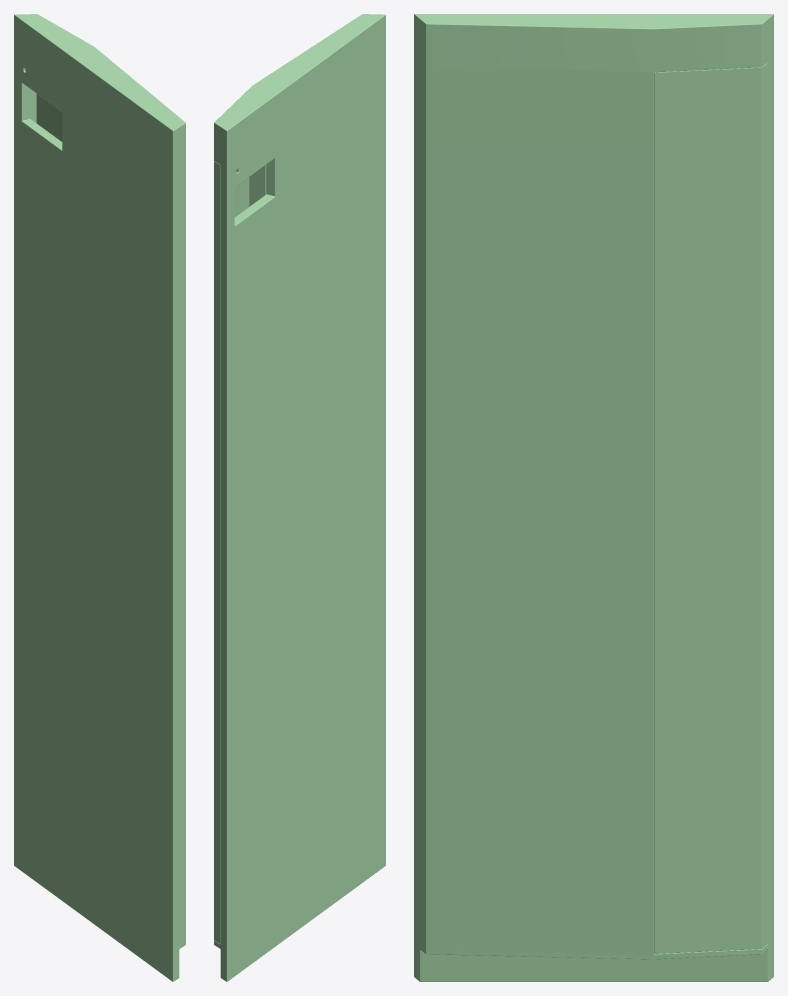
Rendered from FrontHatch.fbx.
The picture shows the model from 3 angles, left to right: view 1: azimuth 30°, elevation 25°; view 2: azimuth 150°, elevation 25°; view 3: azimuth 270°, elevation 25°; orthographic projection. The views are drawn at different scales.
Parts seen in each view (by area): view 1: S320-FrontHatch, S320-FrontHatch-Door; view 2: S320-FrontHatch, S320-FrontHatch-Door; view 3: S320-FrontHatch, S320-FrontHatch-Door.
Part boxes in pixels (box(x1,y1,x2,y2)): S320-FrontHatch: box(14, 14, 185, 981); S320-FrontHatch-Door: box(30, 89, 62, 141); S320-FrontHatch: box(214, 14, 385, 981); S320-FrontHatch-Door: box(214, 161, 266, 943); S320-FrontHatch: box(414, 14, 773, 981); S320-FrontHatch-Door: box(654, 62, 767, 953).
Size of the model in its own units: 6 by 177 by 59.91.
